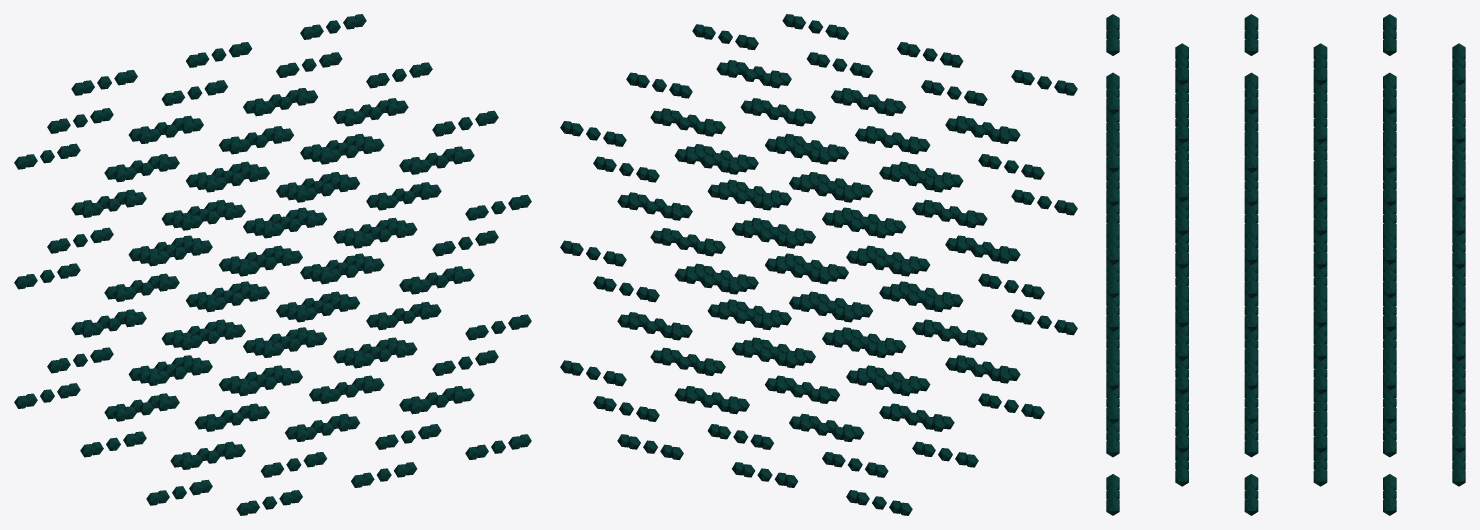
File: coudert_mof_flexibility.glb
3 views of the same model, side by side, from view 1: azimuth 30°, elevation 25°; view 2: azimuth 150°, elevation 25°; view 3: azimuth 270°, elevation 25° (orthographic). The views are drawn at different scales.
Size of the model in its own units: 51.82 by 44.17 by 44.17.
